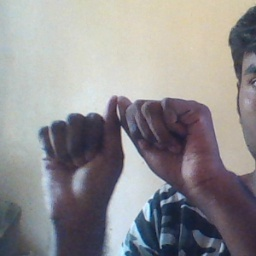A: (34, 93, 218, 207)
